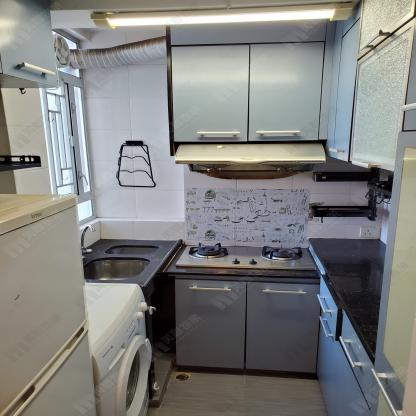Cupboard: (168, 0, 416, 416)
Exhaust Hood: (174, 142, 328, 172)
Fridge: (1, 191, 95, 416)
Sink: (82, 243, 163, 281)
Stove: (174, 241, 318, 272)
Washing Machine: (80, 280, 152, 416)
